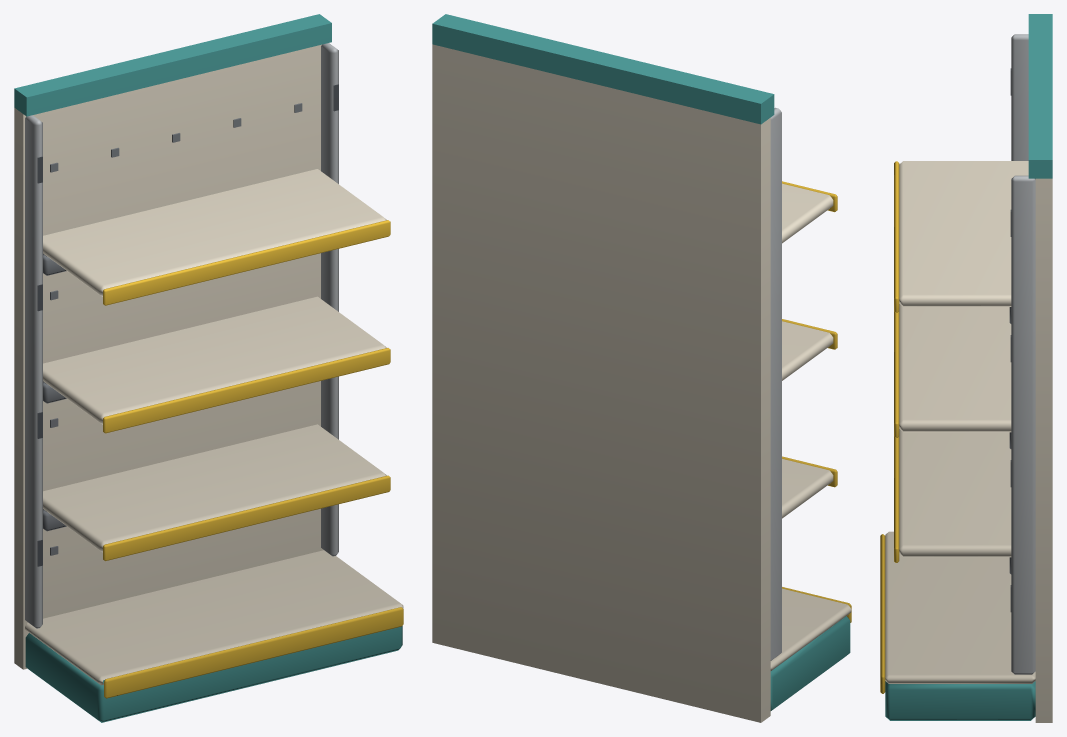
File: Gondola_EndCap_10.glb
The picture shows the model from 3 angles, left to right: view 1: azimuth 30°, elevation 25°; view 2: azimuth 150°, elevation 25°; view 3: azimuth 270°, elevation 25°; orthographic projection. The views are drawn at different scales.
Visible parts, largest first — view 1: SM_Gondola_EndCap_10; view 2: SM_Gondola_EndCap_10; view 3: SM_Gondola_EndCap_10.
Boxes of the visible parts, bbox=[...] form: SM_Gondola_EndCap_10: bbox=[14, 14, 403, 722]; SM_Gondola_EndCap_10: bbox=[432, 14, 851, 722]; SM_Gondola_EndCap_10: bbox=[880, 14, 1052, 722].
Bounding box in the file's own units: 1 × 1.8 × 0.5.
1 material, 1 textured.
